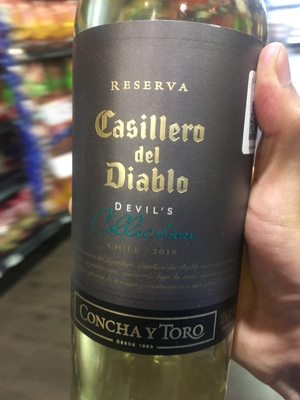casillero del diablo devils collection verde: (63, 7, 277, 400)
